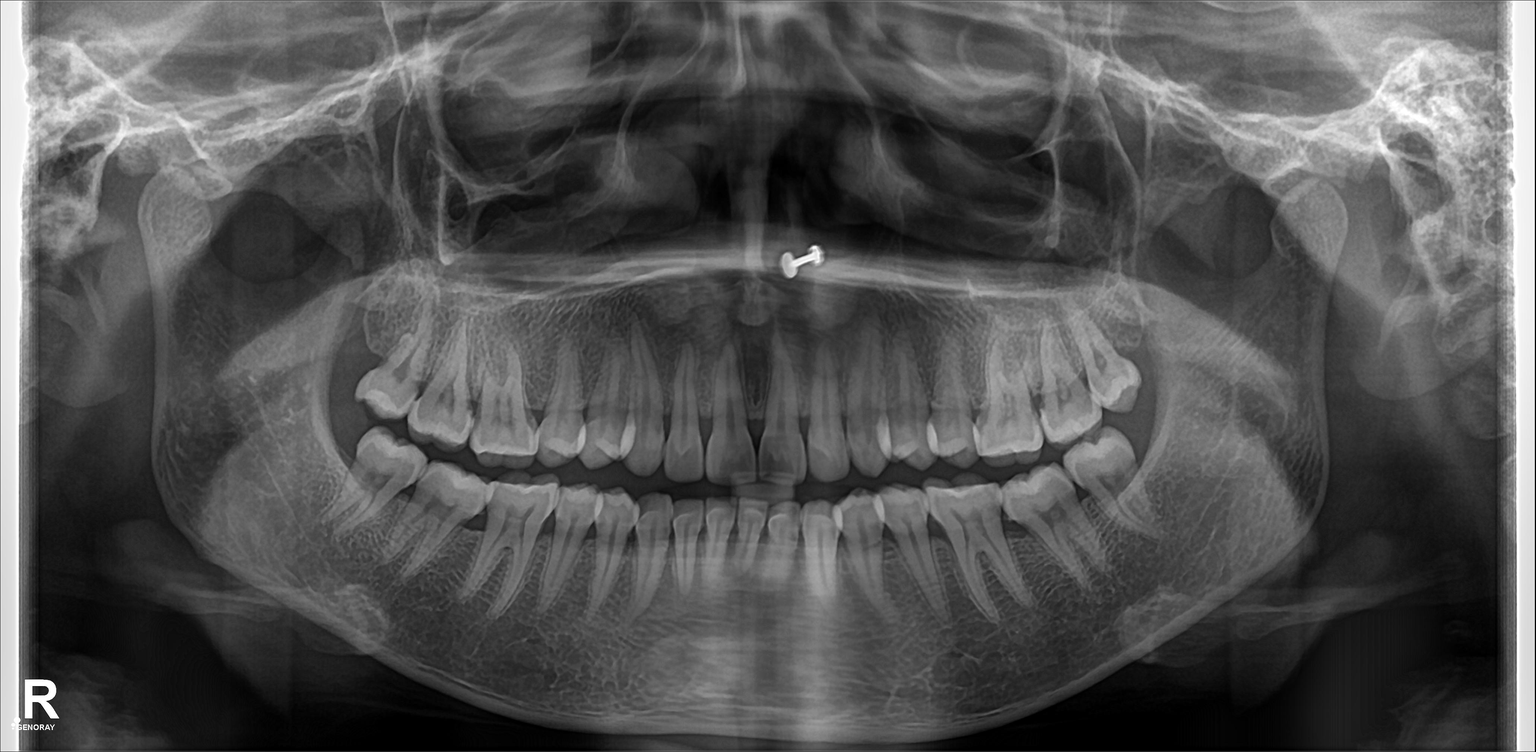Missing Tooth: (335, 296, 375, 399)
